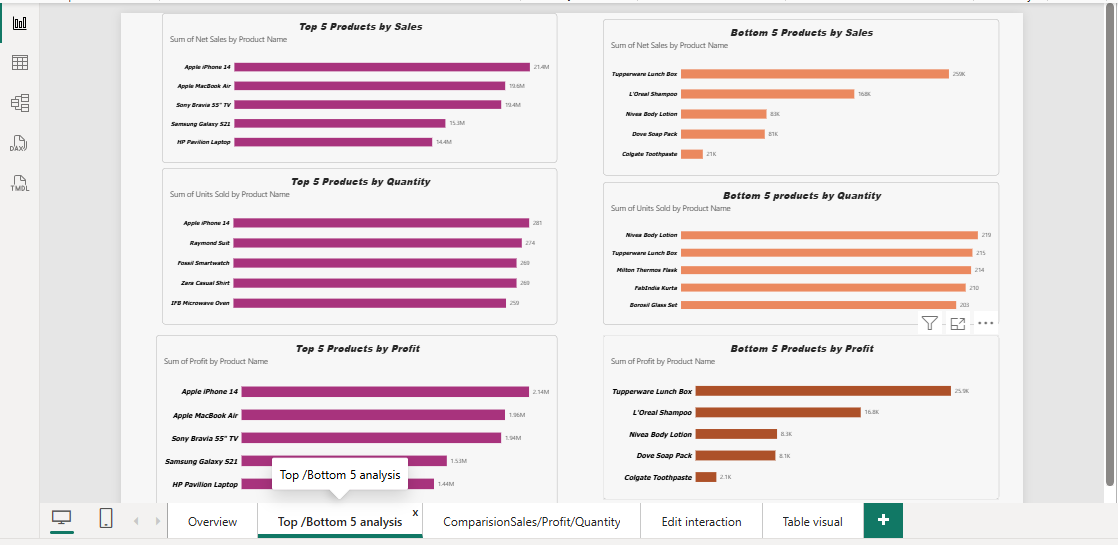

The page's visual inventory and layout, read from the dashboard file:
{"tool":"powerbi","page":{"name":"Top /Bottom 5 analysis","canvas":[1920,1080],"ordinal":1},"visuals":[{"type":"barChart","title":"Top 5 Products by Sales","fields":{"Category":["Dim Product.Product Name"],"Y":["Sum(Fact Table.Net Sales)"]},"box":[87,0,840.7,318.5],"z":0},{"type":"barChart","title":"Bottom 5 Products by Sales","fields":{"Category":["Dim Product.Product Name"],"Y":["Sum(Fact Table.Net Sales)"]},"box":[1025.9,13,842.6,333.3],"z":1000},{"type":"barChart","title":"Top 5 Products by Quantity","fields":{"Category":["Dim Product.Product Name"],"Y":["Sum(Fact Table.Units Sold)"]},"box":[87,329.6,840.7,333.3],"z":2000},{"type":"barChart","title":"Bottom 5 products by Quantity","fields":{"Category":["Dim Product.Product Name"],"Y":["Sum(Fact Table.Units Sold)"]},"box":[1025.9,359.3,842.6,303.7],"z":3000},{"type":"barChart","title":"Top 5 Products by Profit","fields":{"Category":["Dim Product.Product Name"],"Y":["Sum(Fact Table.Profit)"]},"box":[74.1,685.2,853.7,366.7],"z":4000},{"type":"barChart","title":"Bottom 5 Products by Profit","fields":{"Category":["Dim Product.Product Name"],"Y":["Sum(Fact Table.Profit)"]},"box":[1025.9,685.2,842.6,350],"z":5000}]}

Visuals, with their boxes on the page's 1920x1080 design canvas (x1, y1, x2, y2). These are canvas units, not pixel positions in the 1118x545 screenshot, which may show the page scaled, cropped or inside an application window:
"Top 5 Products by Sales" barChart: detection(87, 0, 928, 318)
"Bottom 5 Products by Sales" barChart: detection(1026, 13, 1868, 346)
"Top 5 Products by Quantity" barChart: detection(87, 330, 928, 663)
"Bottom 5 products by Quantity" barChart: detection(1026, 359, 1868, 663)
"Top 5 Products by Profit" barChart: detection(74, 685, 928, 1052)
"Bottom 5 Products by Profit" barChart: detection(1026, 685, 1868, 1035)
